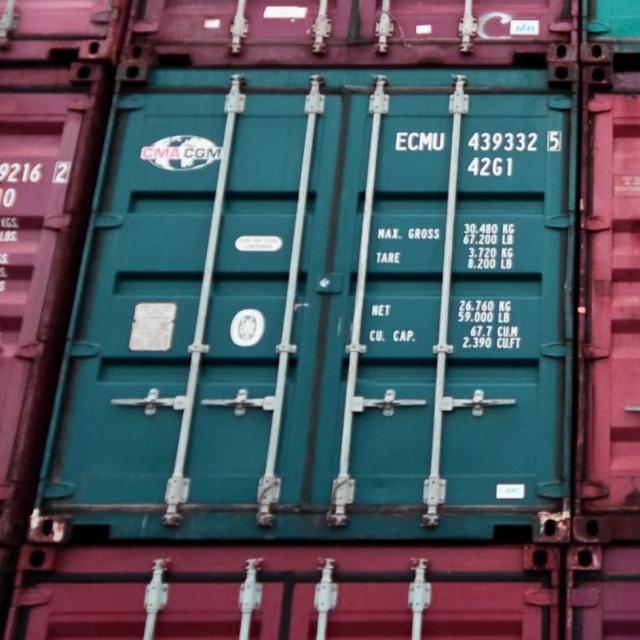ISO: (470, 158, 518, 180)
container_number: (392, 126, 563, 152)
